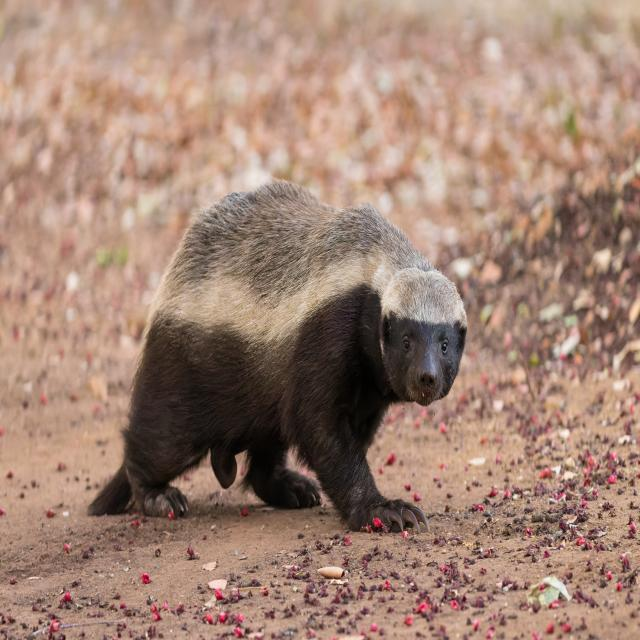Badger: (110, 184, 470, 523)
